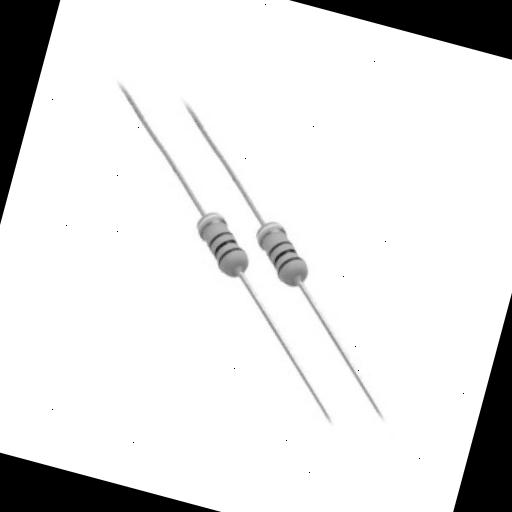RESISTOR: (128, 192, 280, 318), (214, 192, 337, 316)
